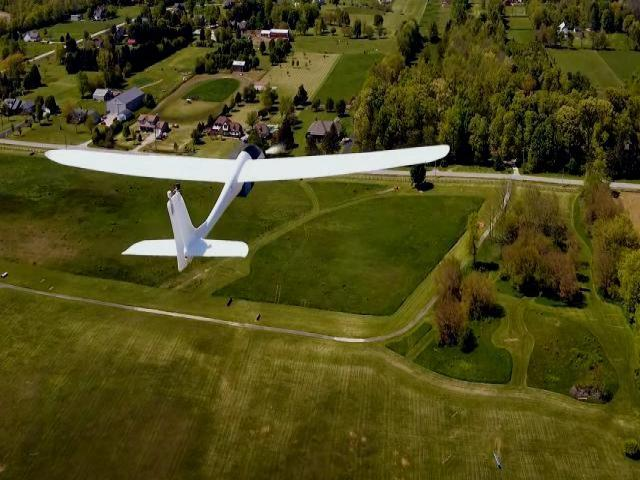iha: (41, 129, 453, 269)
